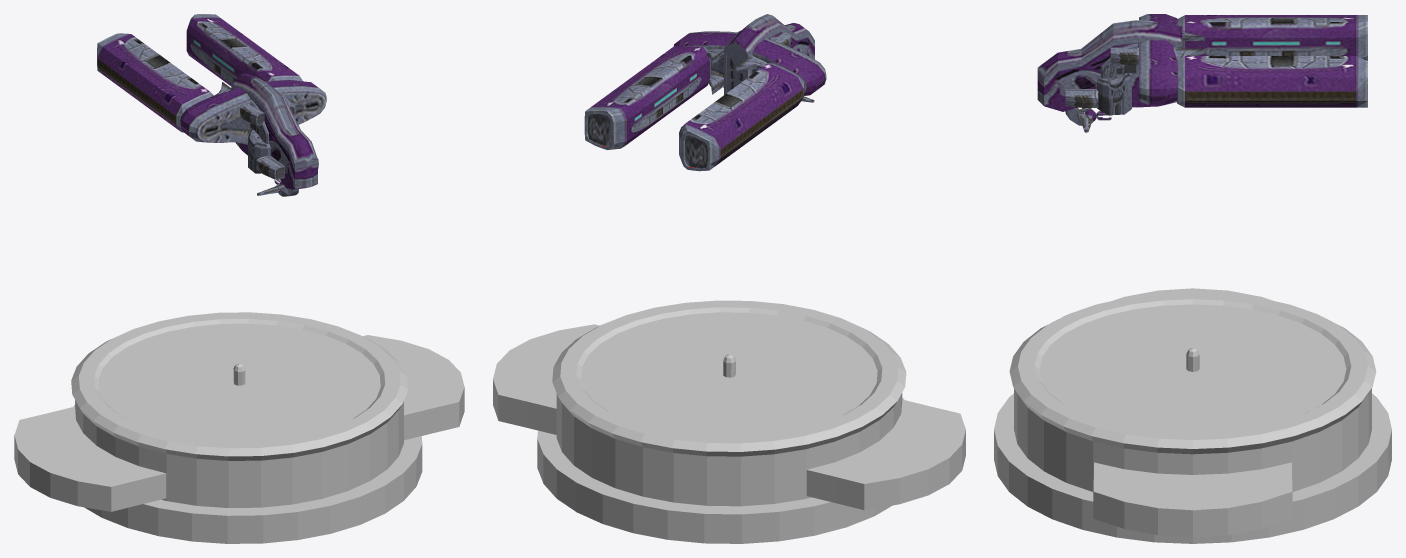
File: spirit-armada.obj
3 views of the same model, side by side, from view 1: azimuth 30°, elevation 25°; view 2: azimuth 150°, elevation 25°; view 3: azimuth 270°, elevation 25° (orthographic). The views are drawn at different scales.
Visible parts, largest first — view 1: Base_-_Squad_-_Base_pCylinder2_0.002, EFFECTSHIP_COVSPIRIT_EFFECTSHIP_COVSPIRIT.001, Base_-_Squad_-__Mode.001_Plane.010, Base_-Squad_-_Unique_Ring_Flat_Torus.008; view 2: Base_-_Squad_-_Base_pCylinder2_0.002, EFFECTSHIP_COVSPIRIT_EFFECTSHIP_COVSPIRIT.001, Base_-_Squad_-__Mode.001_Plane.010, Base_-Squad_-_Unique_Ring_Flat_Torus.008; view 3: Base_-_Squad_-_Base_pCylinder2_0.002, EFFECTSHIP_COVSPIRIT_EFFECTSHIP_COVSPIRIT.001, Base_-Squad_-_Unique_Ring_Flat_Torus.008, Base_-_Squad_-__Mode.001_Plane.010.
Boxes of the visible parts, x1=… form: Base_-_Squad_-_Base_pCylinder2_0.002: x1=73, y1=323, x2=422, y2=543; EFFECTSHIP_COVSPIRIT_EFFECTSHIP_COVSPIRIT.001: x1=97, y1=14, x2=326, y2=196; Base_-_Squad_-__Mode.001_Plane.010: x1=14, y1=335, x2=464, y2=511; Base_-Squad_-_Unique_Ring_Flat_Torus.008: x1=71, y1=312, x2=407, y2=460; Base_-_Squad_-_Base_pCylinder2_0.002: x1=537, y1=312, x2=904, y2=543; EFFECTSHIP_COVSPIRIT_EFFECTSHIP_COVSPIRIT.001: x1=584, y1=14, x2=826, y2=171; Base_-_Squad_-__Mode.001_Plane.010: x1=493, y1=324, x2=965, y2=510; Base_-Squad_-_Unique_Ring_Flat_Torus.008: x1=552, y1=300, x2=906, y2=456; Base_-_Squad_-_Base_pCylinder2_0.002: x1=994, y1=304, x2=1391, y2=543; EFFECTSHIP_COVSPIRIT_EFFECTSHIP_COVSPIRIT.001: x1=1037, y1=14, x2=1367, y2=132; Base_-Squad_-_Unique_Ring_Flat_Torus.008: x1=1009, y1=292, x2=1376, y2=454; Base_-_Squad_-__Mode.001_Plane.010: x1=1093, y1=288, x2=1292, y2=537.
Size of the model in its own units: 1.56 by 1.43 by 1.18.
